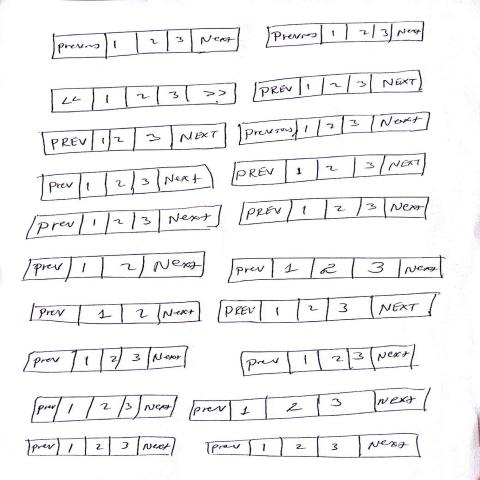Pagination: (188, 387, 432, 423), (216, 292, 442, 325), (25, 204, 224, 241), (237, 111, 432, 148), (230, 153, 429, 189), (39, 164, 216, 203), (40, 122, 229, 157), (226, 255, 445, 285), (51, 28, 242, 61), (21, 251, 208, 284), (239, 344, 418, 378), (50, 82, 238, 114), (238, 196, 432, 227), (252, 69, 424, 103), (206, 433, 423, 459), (22, 345, 190, 374), (265, 22, 426, 50), (29, 301, 202, 327), (30, 395, 179, 425), (26, 436, 178, 457)
